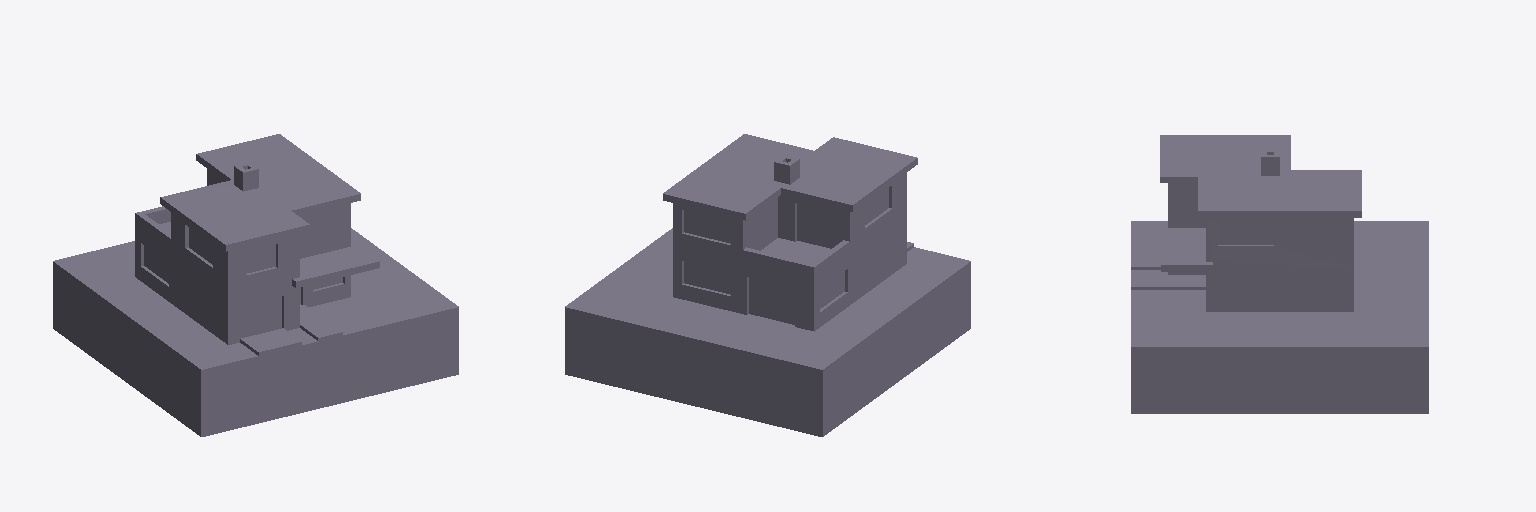
The model's file is house-modern.obj.
The picture shows the model from 3 angles: view 1: azimuth 30°, elevation 25°; view 2: azimuth 150°, elevation 25°; view 3: azimuth 270°, elevation 25°; orthographic projection.
Parts seen in each view (by area): view 1: house-modern_Cube.037_basecolors; view 2: house-modern_Cube.037_basecolors; view 3: house-modern_Cube.037_basecolors.
Boxes of the visible parts, box(x1,y1,x2,y2) form: house-modern_Cube.037_basecolors: box(53, 134, 458, 436); house-modern_Cube.037_basecolors: box(565, 134, 970, 436); house-modern_Cube.037_basecolors: box(1131, 135, 1428, 413).
Bounding box in the file's own units: 10.8 × 7.64 × 10.8.